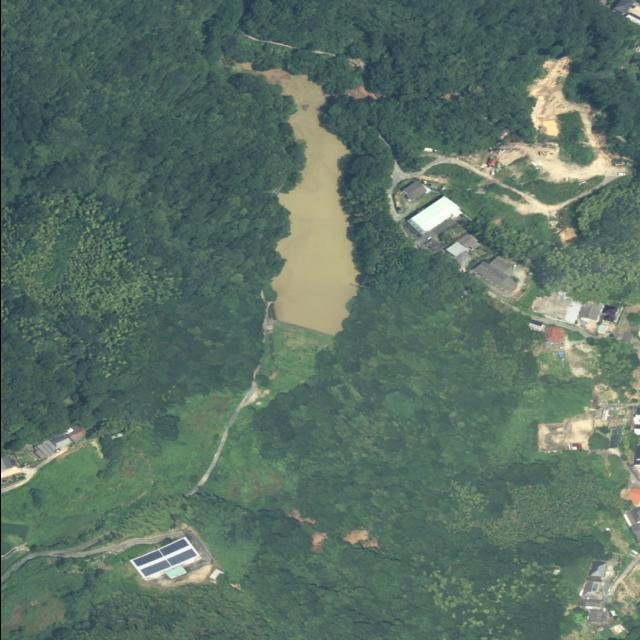landslide: (498, 56, 627, 183)
